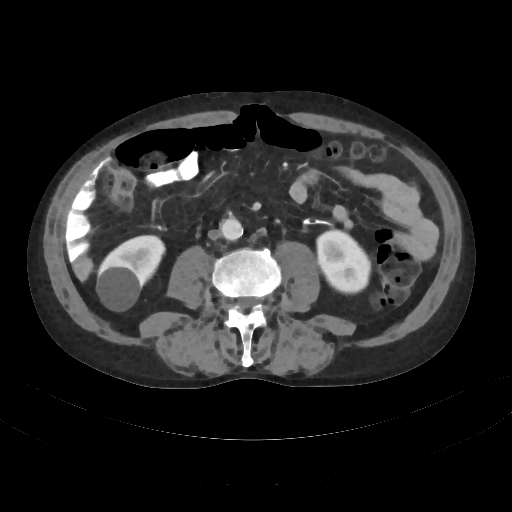Lesion: (95, 266, 143, 315)
